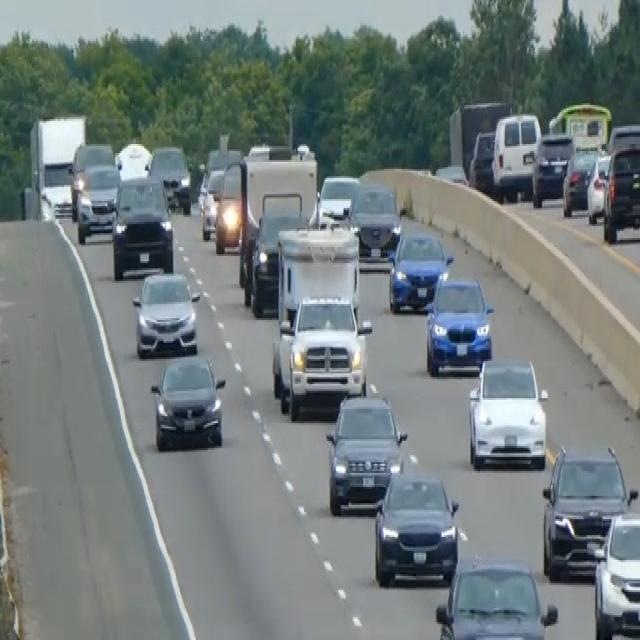bus: (547, 98, 612, 153)
car: (541, 441, 637, 581), (325, 389, 409, 514), (373, 466, 459, 586), (434, 555, 558, 638), (465, 352, 549, 471), (248, 190, 309, 315), (150, 352, 226, 452), (424, 270, 494, 377), (110, 173, 174, 279), (131, 268, 200, 358), (592, 510, 639, 638), (387, 226, 452, 313), (69, 140, 121, 242), (491, 110, 541, 201), (348, 180, 401, 260), (602, 138, 639, 244), (531, 130, 574, 206), (148, 142, 192, 214), (561, 144, 600, 217), (213, 158, 243, 252), (316, 172, 359, 228), (199, 165, 224, 240), (586, 151, 611, 224), (468, 128, 495, 190), (114, 139, 152, 181), (607, 121, 639, 151)
lorry: (27, 112, 87, 220)
truck: (270, 222, 372, 420)
